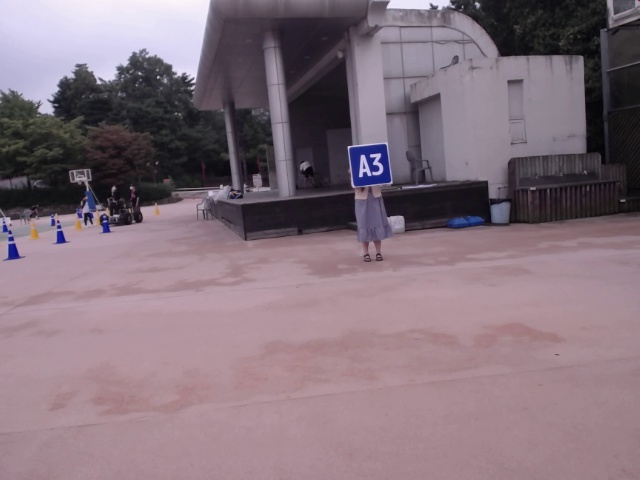delivery_a3: (348, 143, 392, 188)
